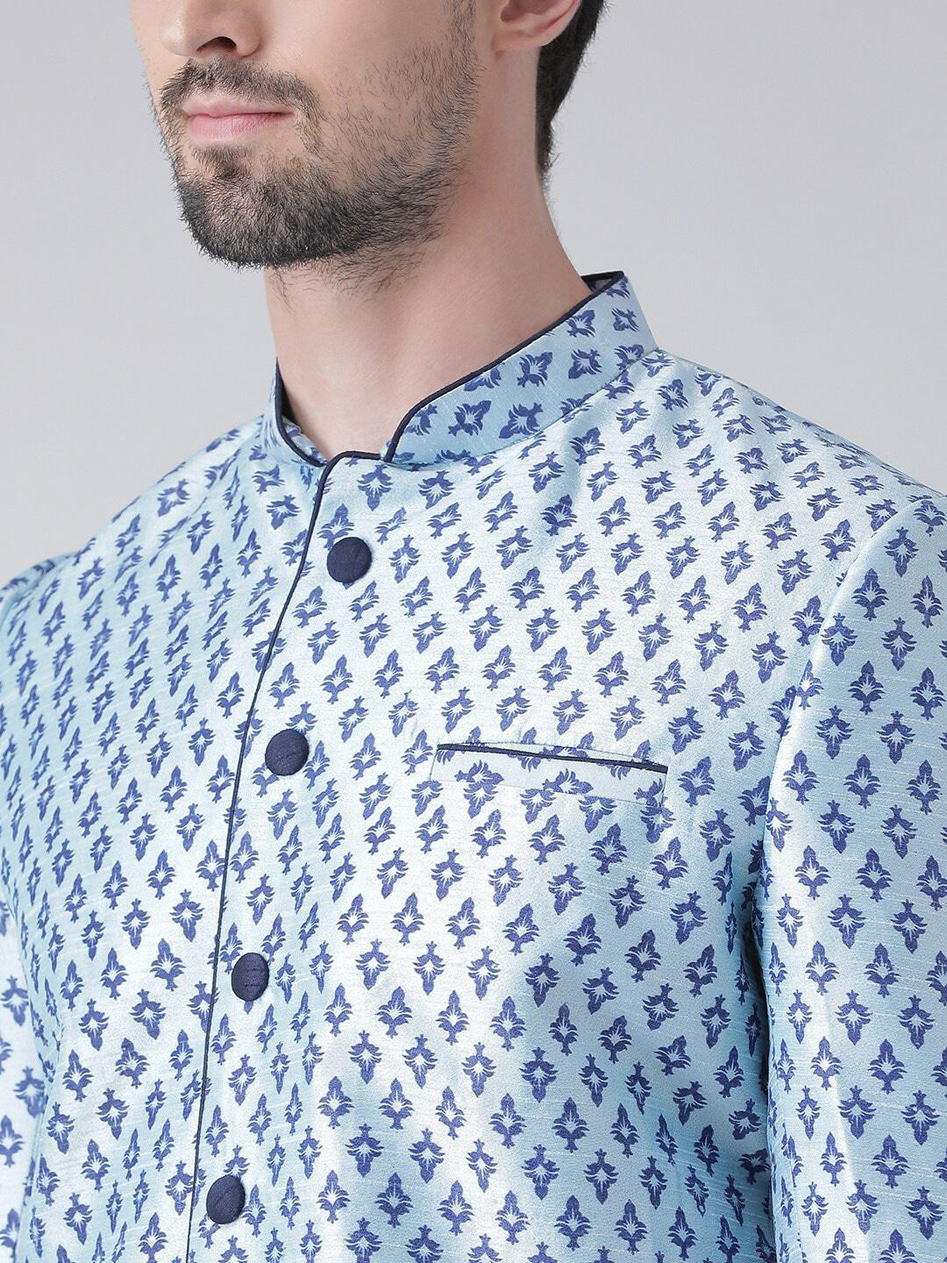Design Sherwani: (3, 268, 942, 1259)
